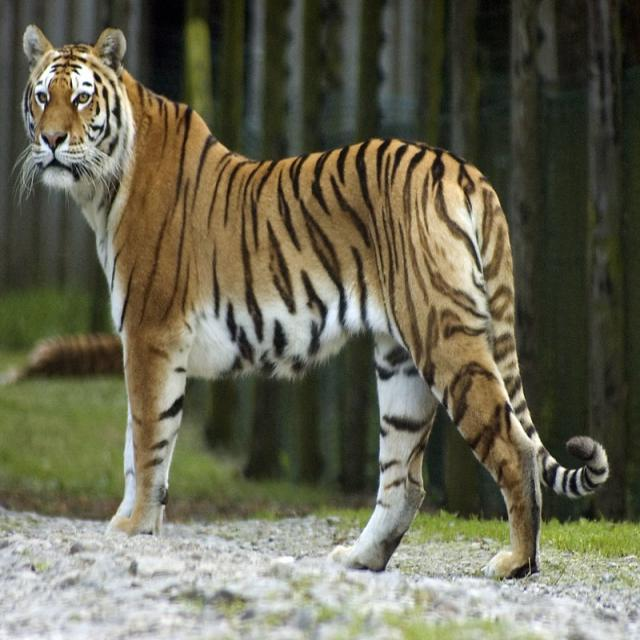Tiger: (18, 21, 604, 578)
